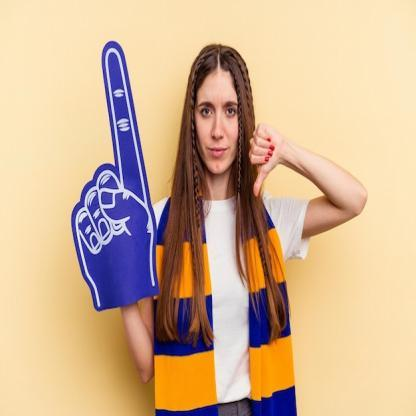thumb_down: (248, 118, 286, 199)
